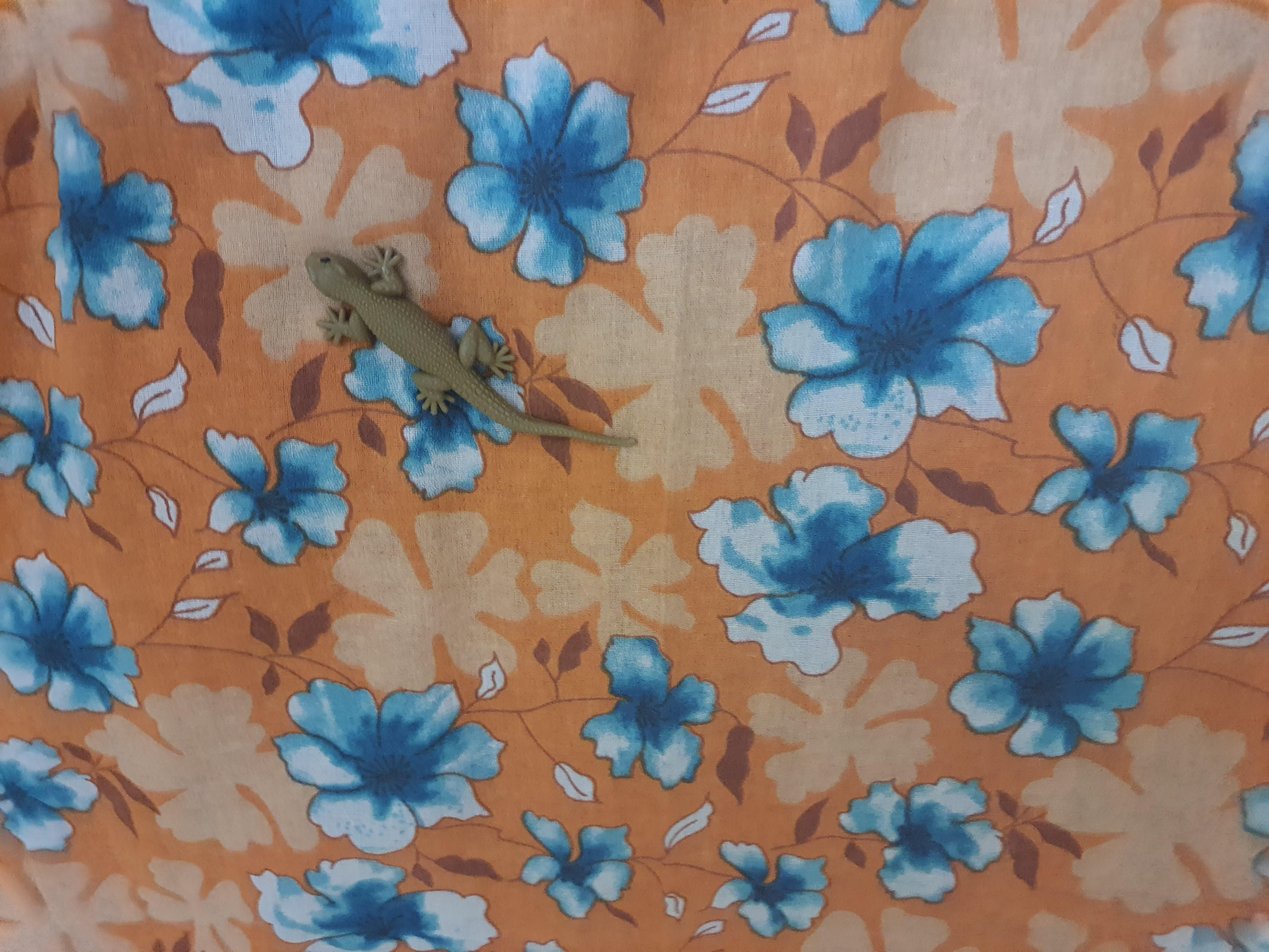lizard: (671, 223, 947, 486)
